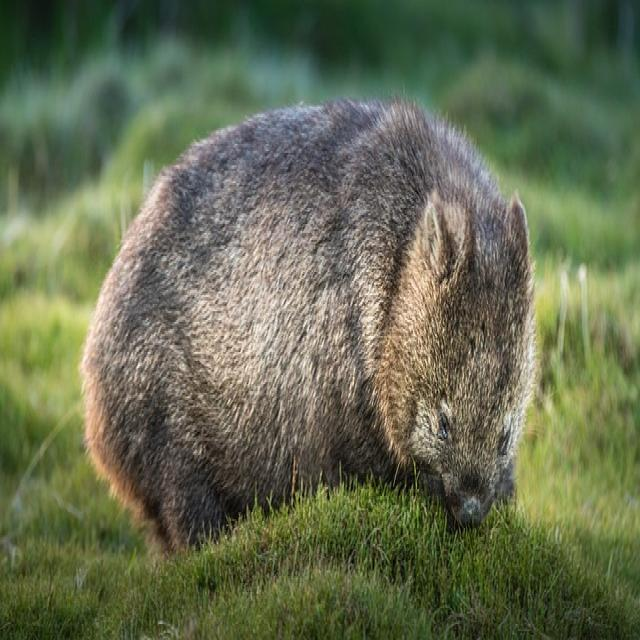Wombat: (85, 87, 540, 568)
